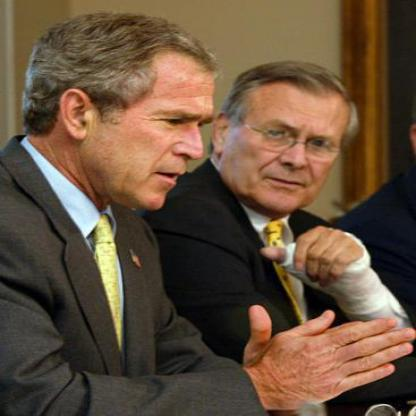face: (90, 45, 227, 217), (229, 67, 352, 217)
